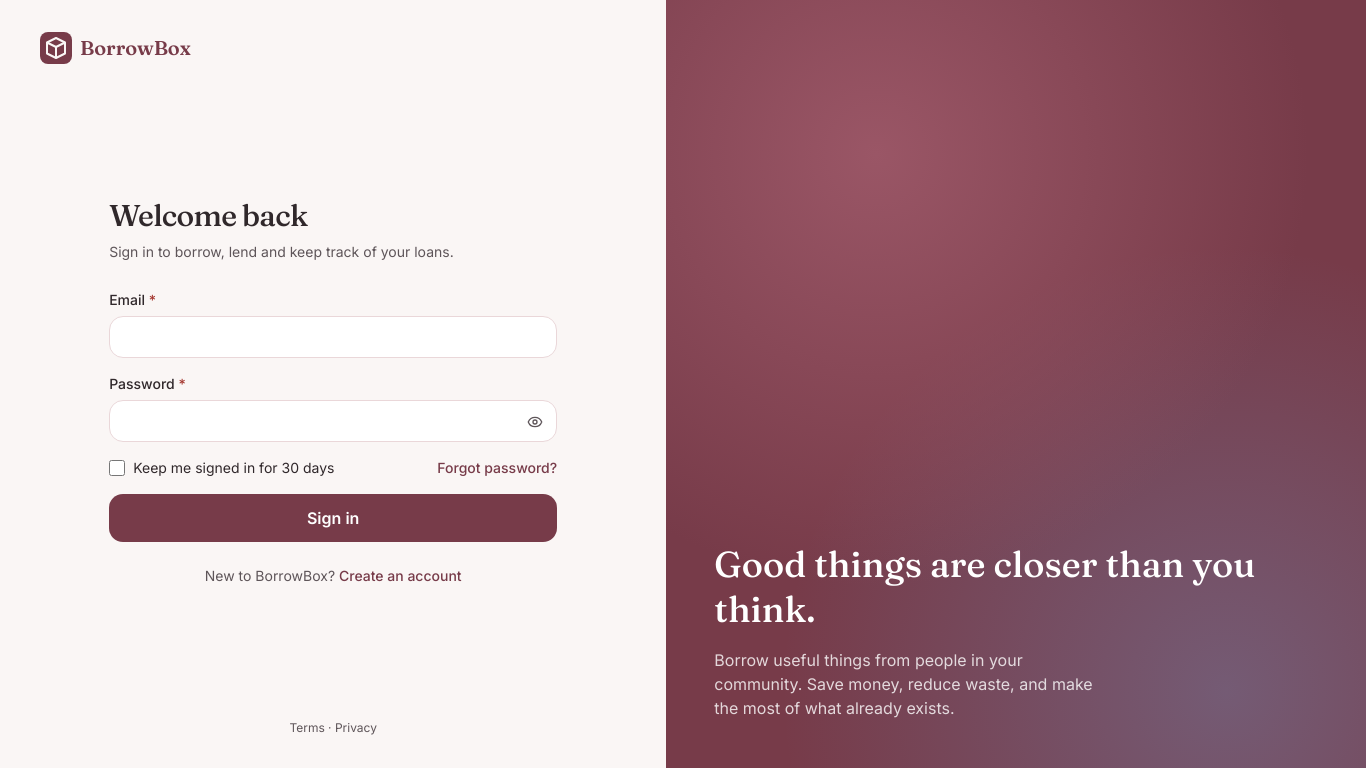
Test: login form › shows the server error message on failed login
In the field labelled "Email *": (333, 337) [109,316,557,358], type "a@b.test"
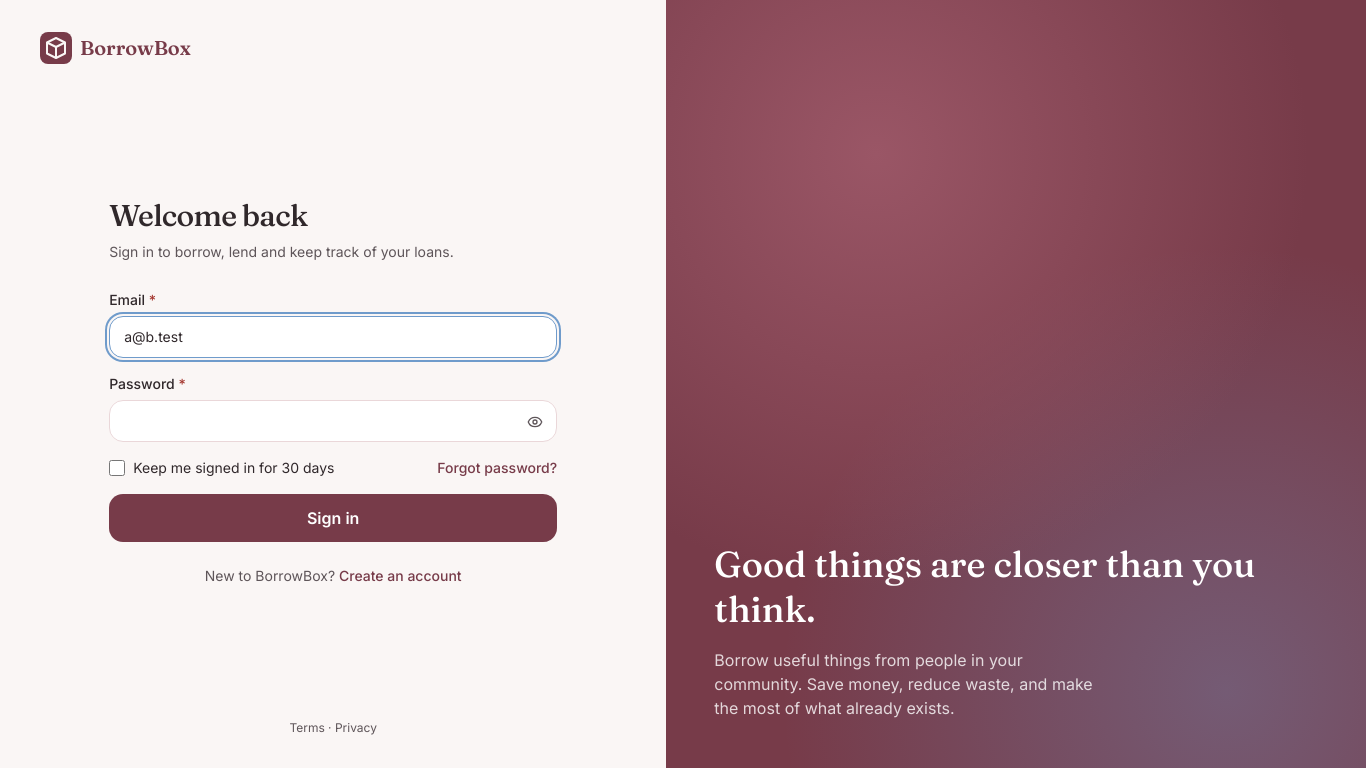
In the password field labelled "Password *": (333, 421) [109,400,557,442], type "whatever123"
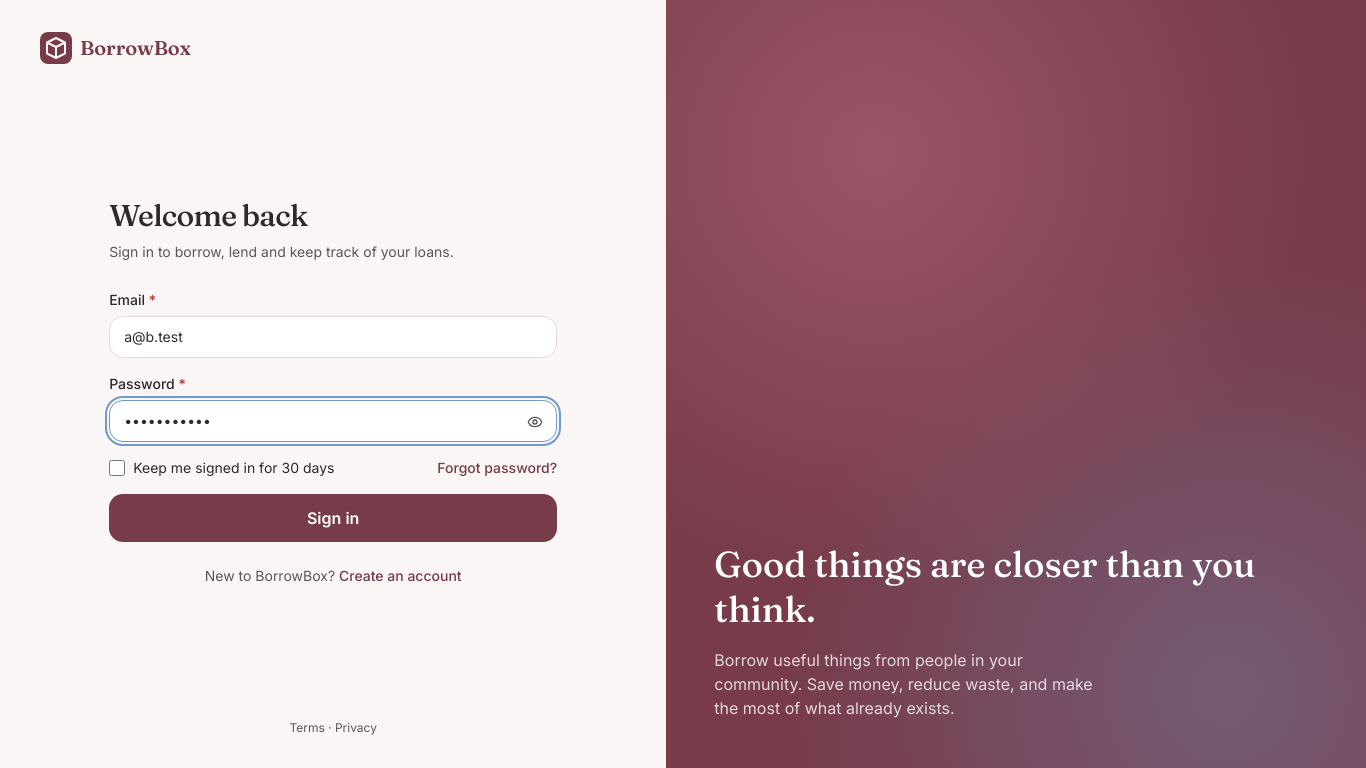
Click the button "Sign in": (333, 518) [109,494,557,542]
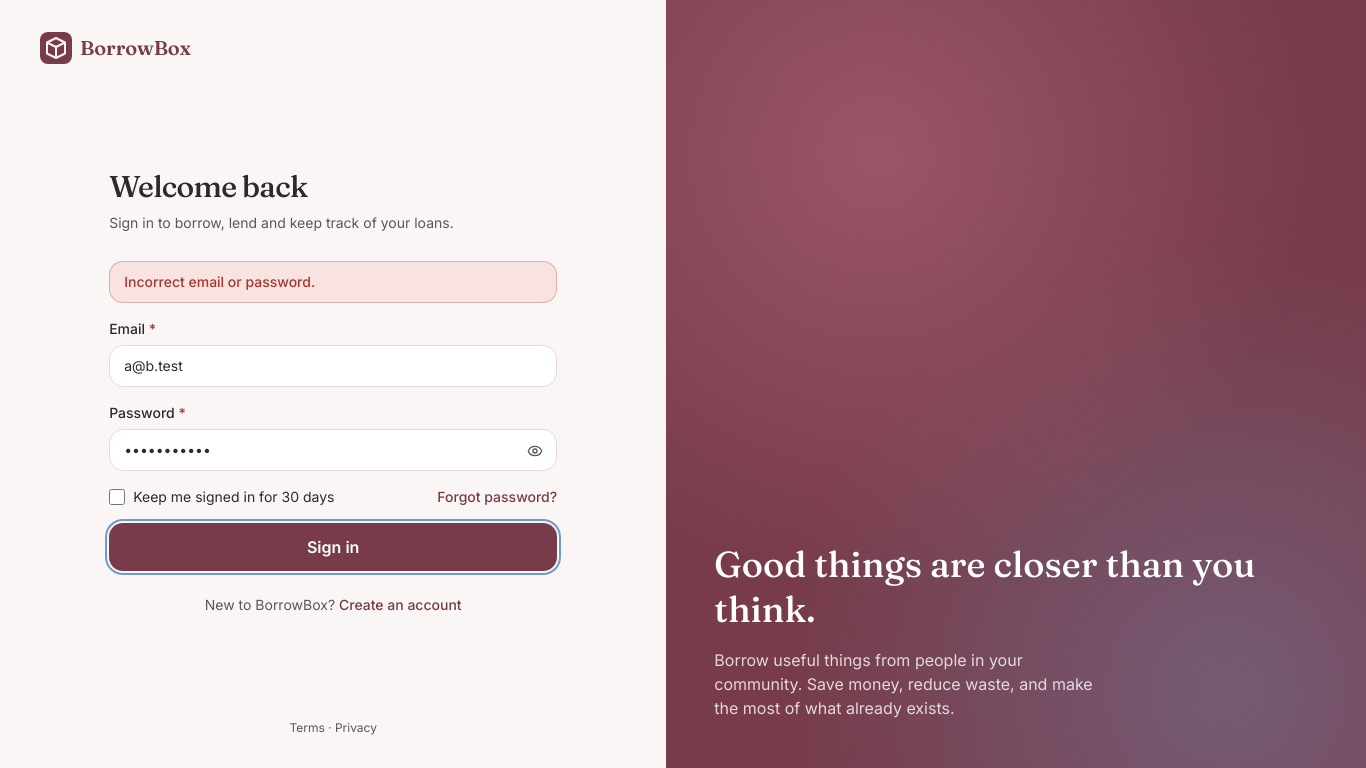
Result: the text "Incorrect email or password." is shown at [109,261,557,303]
